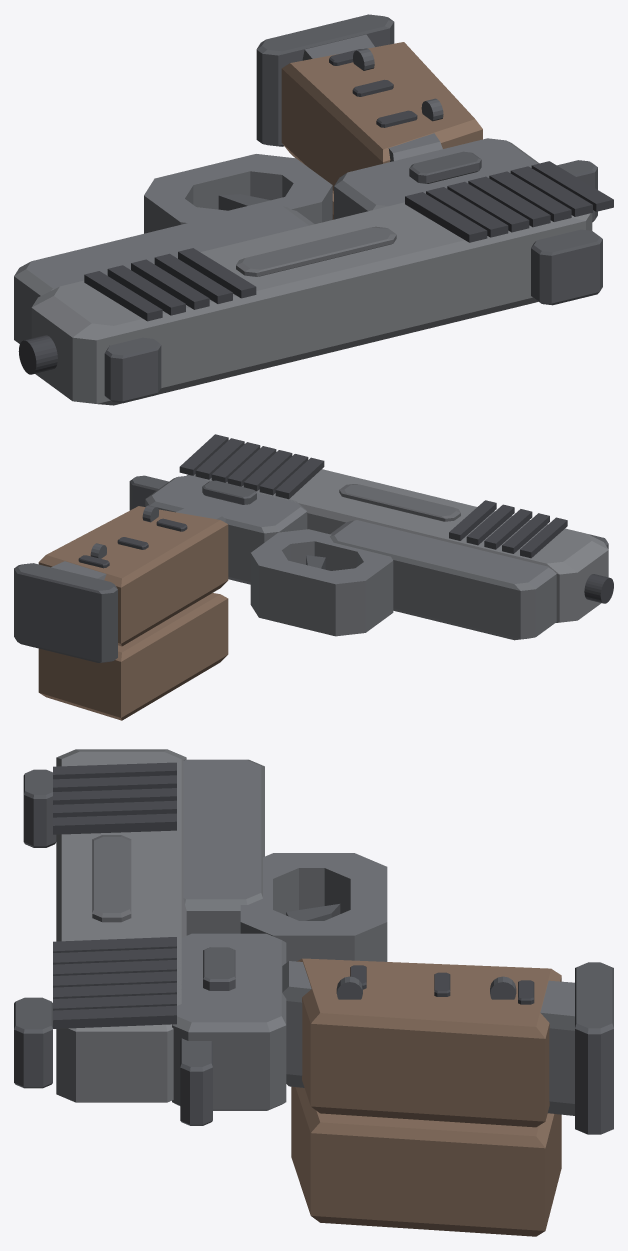
The model's file is m1911_sentinel.glb.
The picture shows the model from 3 angles, top to bottom: view 1: azimuth 30°, elevation 25°; view 2: azimuth 150°, elevation 25°; view 3: azimuth 270°, elevation 25°; orthographic projection. The views are drawn at different scales.
Parts seen in each view (by area): view 1: slide, wood_panel_left, dust_cover, trigger_guard, rear_frame, mag_base, rear_sight, slide_marking, front_sight, grip, rear_serr_0, safety (+14 smaller); view 2: dust_cover, wood_panel_left, wood_panel_right, trigger_guard, slide, mag_base, rear_frame, slide_marking, safety, rear_serr_0, hammer, front_serr_2 (+12 smaller); view 3: wood_panel_left, wood_panel_right, slide, rear_frame, dust_cover, trigger_guard, mag_base, grip, rear_sight, slide_marking, hammer, rear_serr_6 (+14 smaller).
Boxes of the visible parts, box(x1,y1,x2,y2) form: slide: box(31, 202, 592, 405); wood_panel_left: box(281, 42, 482, 193); dust_cover: box(14, 204, 314, 343); trigger_guard: box(144, 154, 332, 233); rear_frame: box(334, 138, 539, 219); mag_base: box(256, 14, 394, 146); rear_sight: box(531, 229, 602, 305); slide_marking: box(236, 226, 396, 276); front_sight: box(104, 337, 161, 403); grip: box(302, 34, 442, 161); rear_serr_0: box(405, 192, 487, 242); safety: box(409, 151, 481, 183); dust_cover: box(330, 520, 556, 640); wood_panel_left: box(38, 506, 228, 646); wood_panel_right: box(38, 593, 228, 720); trigger_guard: box(250, 529, 393, 636); slide: box(186, 469, 608, 622); mag_base: box(14, 563, 117, 662); rear_frame: box(145, 475, 307, 584); slide_marking: box(339, 484, 460, 521); safety: box(202, 480, 256, 504); rear_serr_0: box(275, 457, 324, 499); hammer: box(129, 475, 168, 510); front_serr_2: box(484, 509, 532, 549); wood_panel_left: box(297, 958, 561, 1127); wood_panel_right: box(291, 1086, 561, 1236); slide: box(56, 749, 186, 1102); rear_frame: box(172, 933, 286, 1110); dust_cover: box(183, 759, 264, 935); trigger_guard: box(240, 853, 387, 962); mag_base: box(575, 962, 613, 1134); grip: box(282, 961, 574, 1115); rear_sight: box(14, 997, 52, 1088); slide_marking: box(92, 835, 131, 922); hammer: box(180, 1038, 212, 1125); rear_serr_6: box(53, 1005, 176, 1028).
Size of the model in its own units: 0.236 by 0.077 by 0.184.
